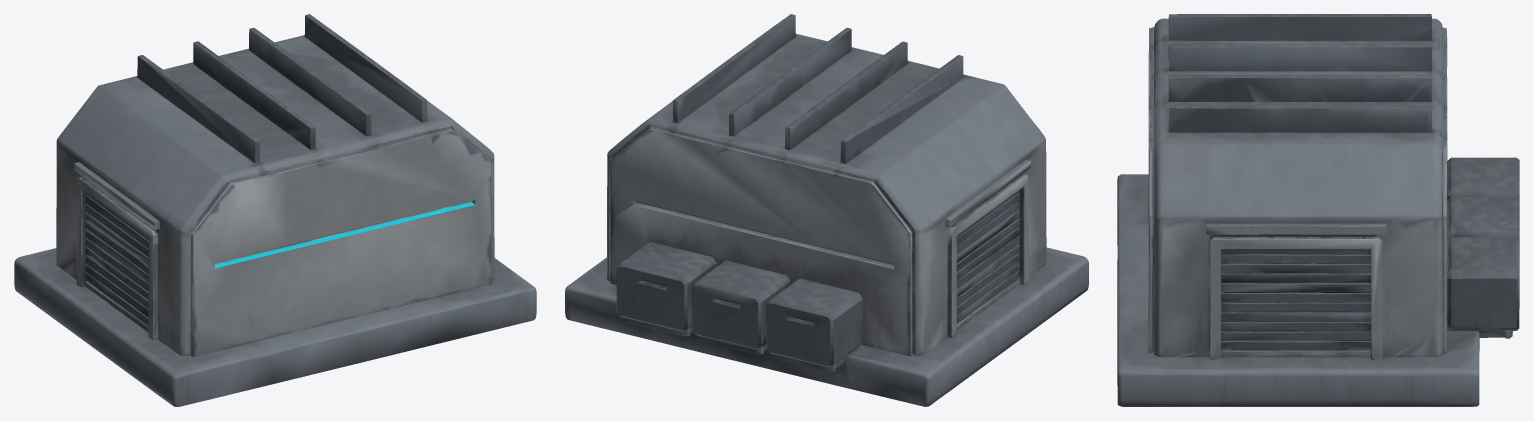
Rendered from town-storage-light.glb.
3 views of the same model, side by side, from view 1: azimuth 30°, elevation 25°; view 2: azimuth 150°, elevation 25°; view 3: azimuth 270°, elevation 25° (orthographic). The views are drawn at different scales.
Visible parts, largest first — view 1: town-storage-light; view 2: town-storage-light; view 3: town-storage-light.
Boxes of the visible parts, x1=… form: town-storage-light: x1=14, y1=14, x2=536, y2=406; town-storage-light: x1=565, y1=14, x2=1088, y2=406; town-storage-light: x1=1117, y1=14, x2=1519, y2=406.
Bounding box in the file's own units: 10.8 × 6.37 × 9.22.
Materials: 1 (1 with a texture image).
